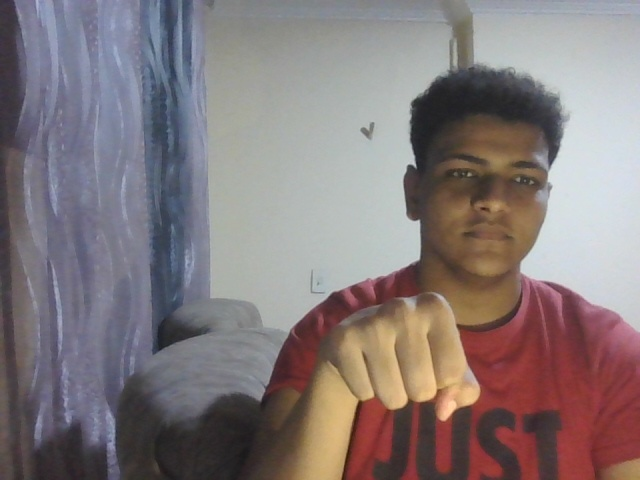yes: (304, 278, 492, 442)
